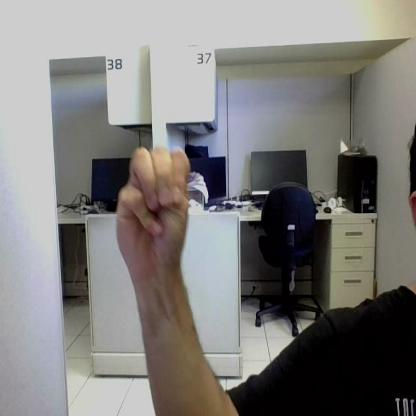M: (118, 146, 188, 268)
